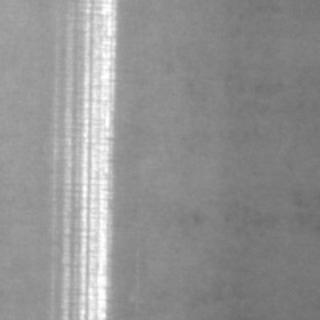scratches: (50, 0, 120, 316)
